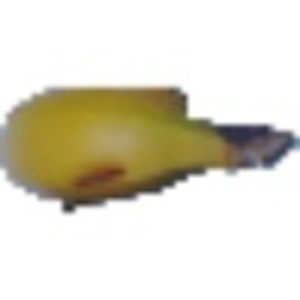banana: (2, 75, 290, 207)
